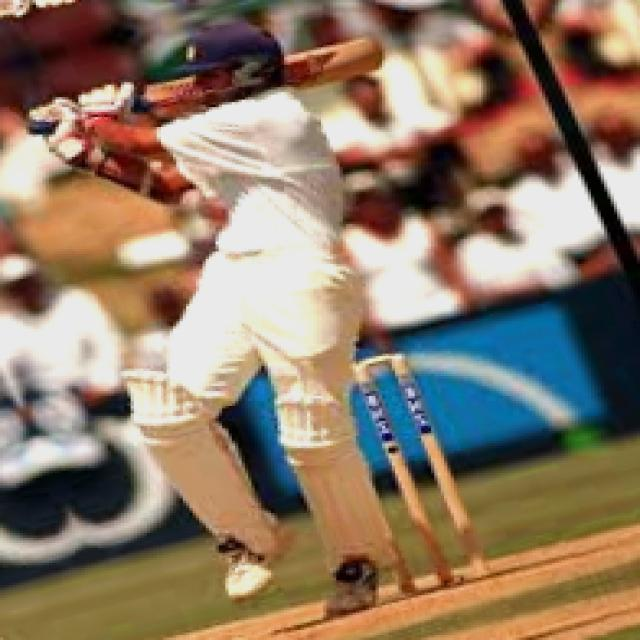toe: (372, 37, 388, 71)
